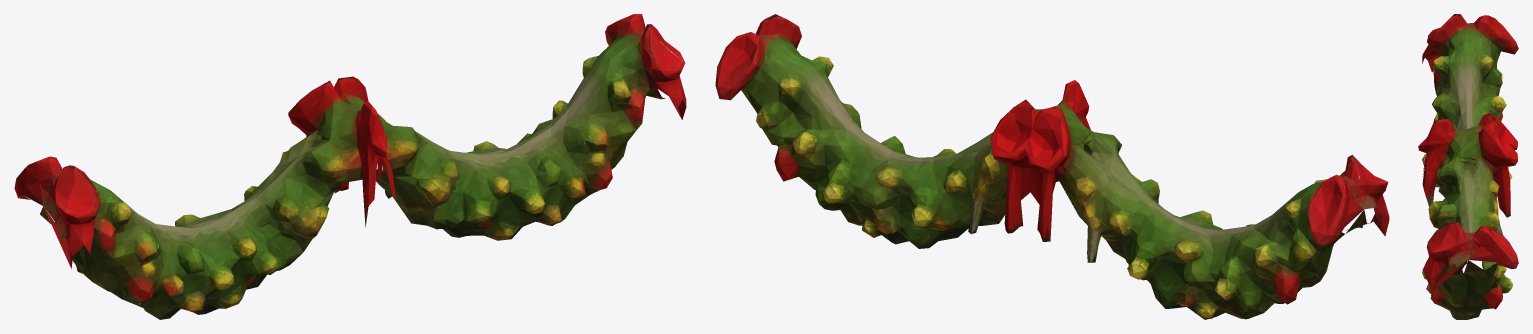
3 views of the same model, side by side, from view 1: azimuth 30°, elevation 25°; view 2: azimuth 150°, elevation 25°; view 3: azimuth 270°, elevation 25° (orthographic). The views are drawn at different scales.
Parts seen in each view (by area): view 1: geometry_0.001; view 2: geometry_0.001; view 3: geometry_0.001.
Boxes of the visible parts, box(x1,y1,x2,y2) form: geometry_0.001: box(14, 14, 686, 319); geometry_0.001: box(715, 14, 1389, 319); geometry_0.001: box(1418, 14, 1518, 319).
Bounding box in the file's own units: 0.8252 × 0.2371 × 0.1563.
1 material, 1 textured.
